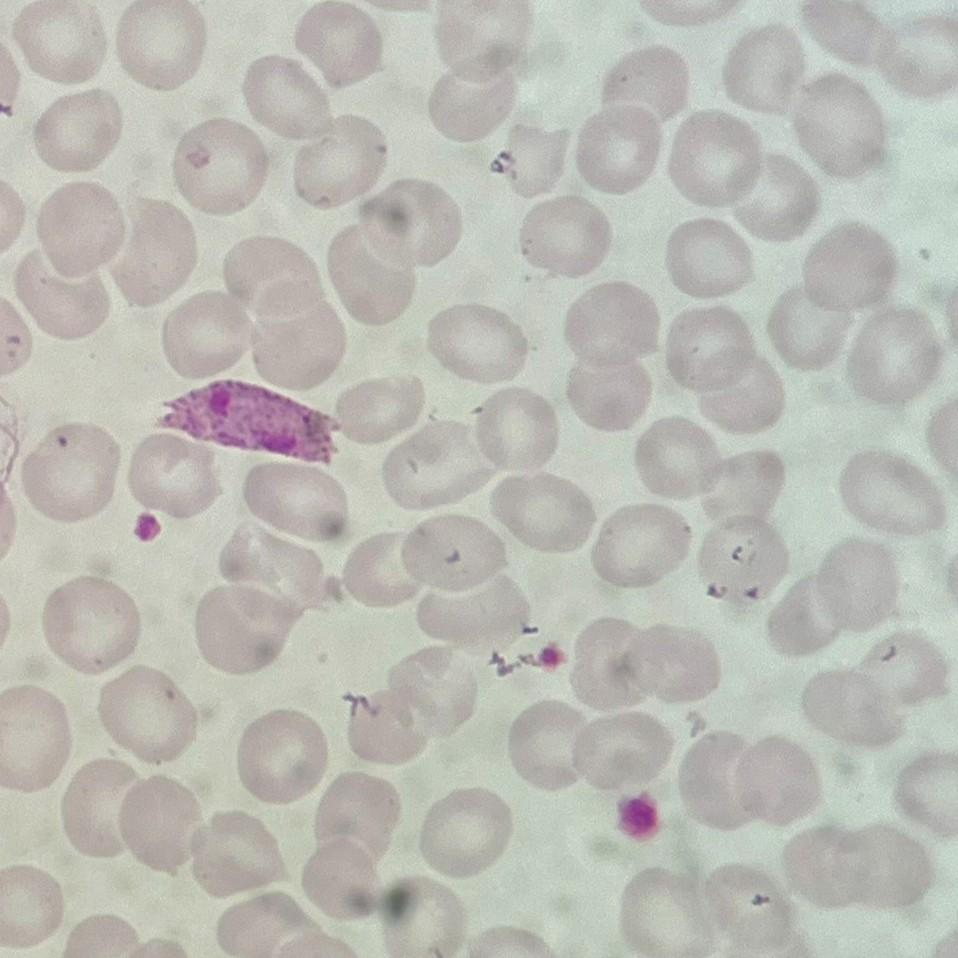Infected: (166, 377, 345, 462)
Uninfected: (784, 821, 925, 911), (220, 521, 341, 613), (382, 418, 495, 509), (19, 422, 119, 523), (192, 583, 301, 675), (110, 198, 201, 308), (96, 664, 197, 763), (41, 575, 141, 674), (356, 177, 459, 271), (33, 179, 127, 282), (490, 467, 598, 556), (789, 75, 885, 175), (247, 296, 348, 391), (836, 449, 942, 539), (841, 307, 940, 403), (806, 536, 903, 633), (14, 247, 113, 342), (172, 119, 269, 215), (240, 459, 349, 543), (798, 666, 907, 750), (696, 863, 800, 951), (614, 623, 720, 709), (328, 225, 421, 322), (290, 117, 389, 208), (667, 110, 762, 204), (799, 221, 896, 313), (663, 305, 761, 396), (115, 773, 206, 871), (568, 708, 671, 794), (415, 573, 530, 650), (590, 501, 690, 589), (233, 710, 327, 803), (398, 512, 507, 592), (695, 516, 789, 608), (428, 301, 529, 386), (416, 787, 510, 878), (722, 736, 816, 827), (60, 758, 144, 859), (188, 810, 283, 899), (126, 430, 220, 519), (678, 730, 765, 826), (561, 281, 659, 366), (389, 647, 483, 735), (298, 835, 393, 921), (574, 106, 666, 194), (115, 1, 207, 89), (566, 617, 651, 712), (310, 769, 401, 856), (619, 868, 712, 953), (160, 292, 250, 378), (32, 89, 123, 174), (12, 0, 104, 83), (690, 353, 784, 434), (433, 2, 529, 81), (505, 699, 589, 789), (241, 55, 331, 139), (0, 684, 72, 788), (221, 232, 319, 308), (472, 385, 559, 470), (729, 156, 816, 241), (767, 284, 855, 368), (293, 2, 382, 85), (516, 196, 607, 277), (634, 416, 721, 500), (854, 629, 948, 706), (216, 893, 329, 957), (722, 25, 804, 113), (664, 216, 754, 296), (374, 874, 465, 953), (426, 68, 517, 146), (563, 354, 653, 432), (334, 371, 427, 445), (601, 44, 688, 122), (766, 574, 848, 655), (698, 448, 785, 522), (344, 689, 429, 764), (340, 530, 421, 608), (880, 14, 958, 95), (802, 2, 890, 68), (494, 122, 571, 197), (0, 864, 64, 943), (894, 751, 951, 834)
